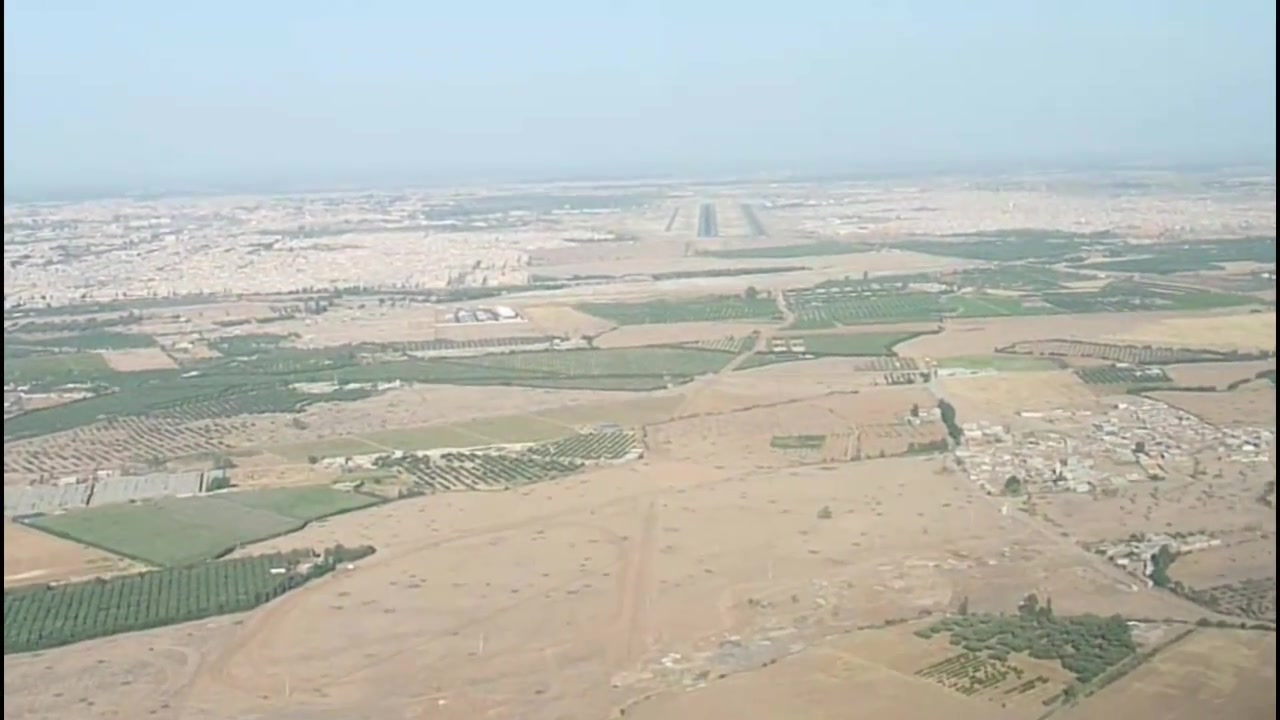runway: (691, 203, 720, 240)
